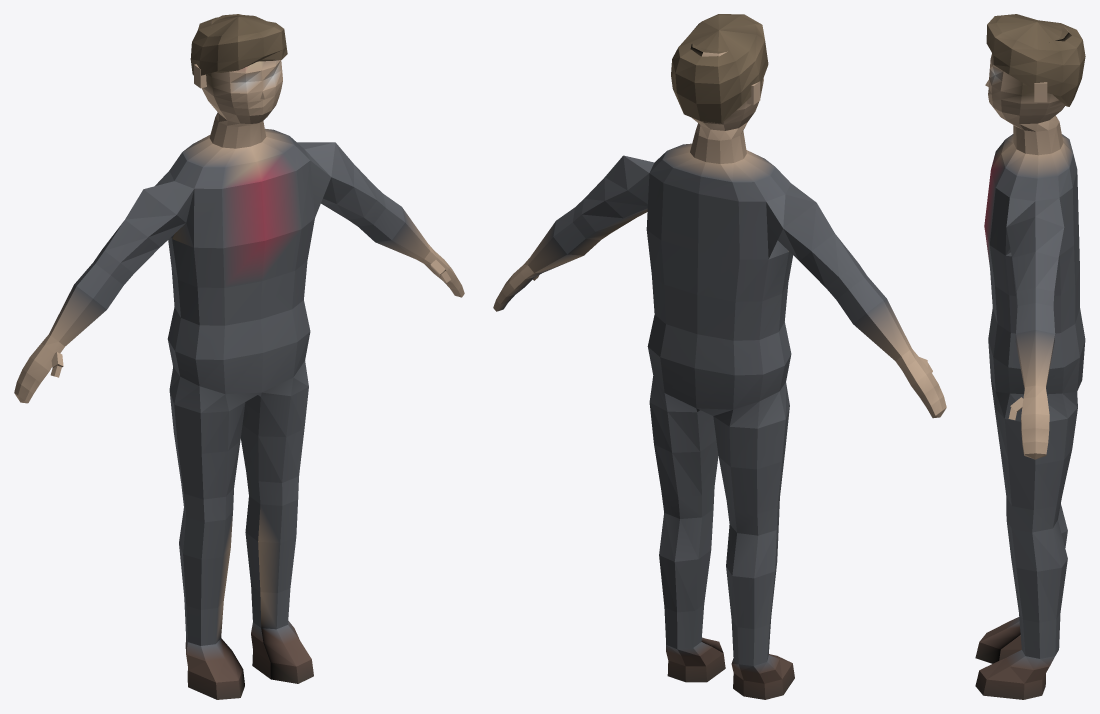
The model's file is char__pessoa__multidao_17.glb.
3 renders of one model, left to right at view 1: azimuth 30°, elevation 25°; view 2: azimuth 150°, elevation 25°; view 3: azimuth 270°, elevation 25°, orthographic.
Parts seen in each view (by area): view 1: char__pessoa__multidao_17; view 2: char__pessoa__multidao_17; view 3: char__pessoa__multidao_17.
Boxes of the visible parts, <box> form: char__pessoa__multidao_17: <box>14,14,464,699</box>; char__pessoa__multidao_17: <box>493,14,946,699</box>; char__pessoa__multidao_17: <box>975,14,1085,699</box>.
Bounding box in the file's own units: 1.25 × 1.76 × 0.269.
